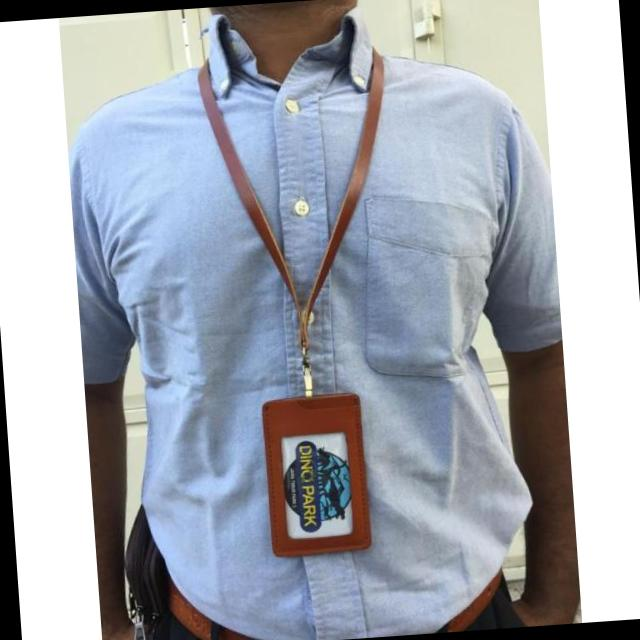id_card: (202, 40, 412, 561)
